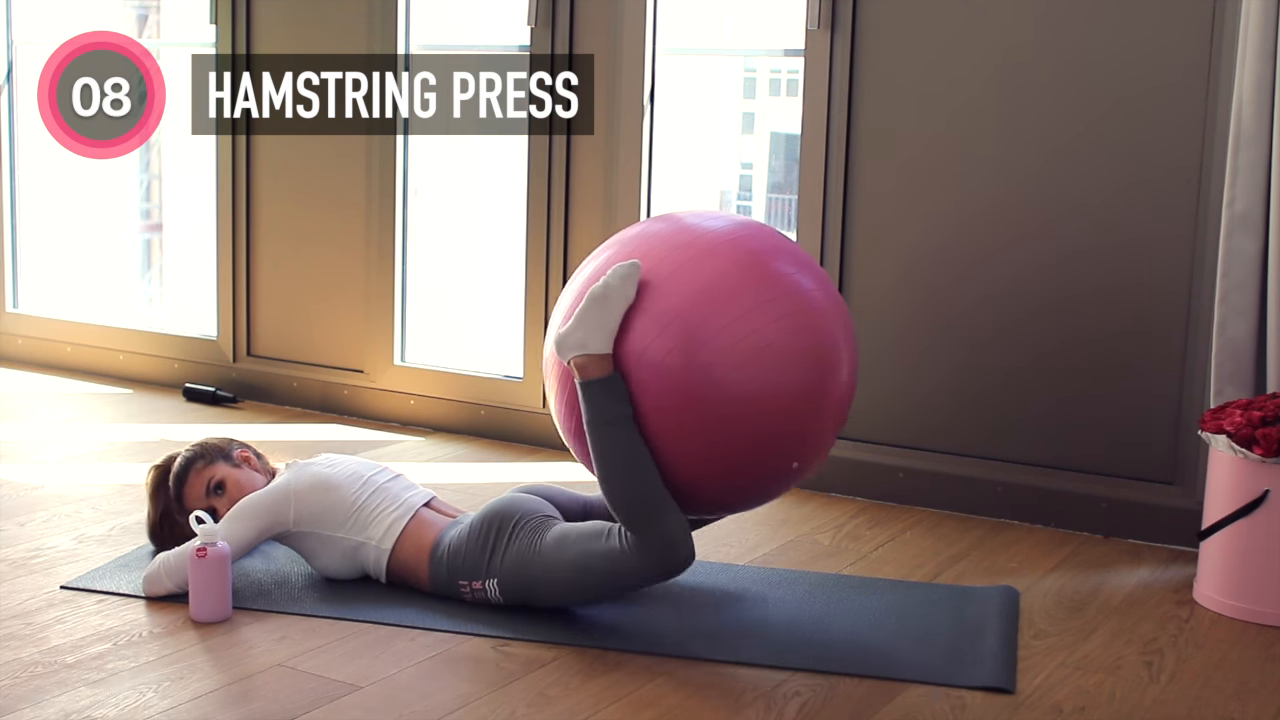yogaball: (535, 206, 870, 527)
